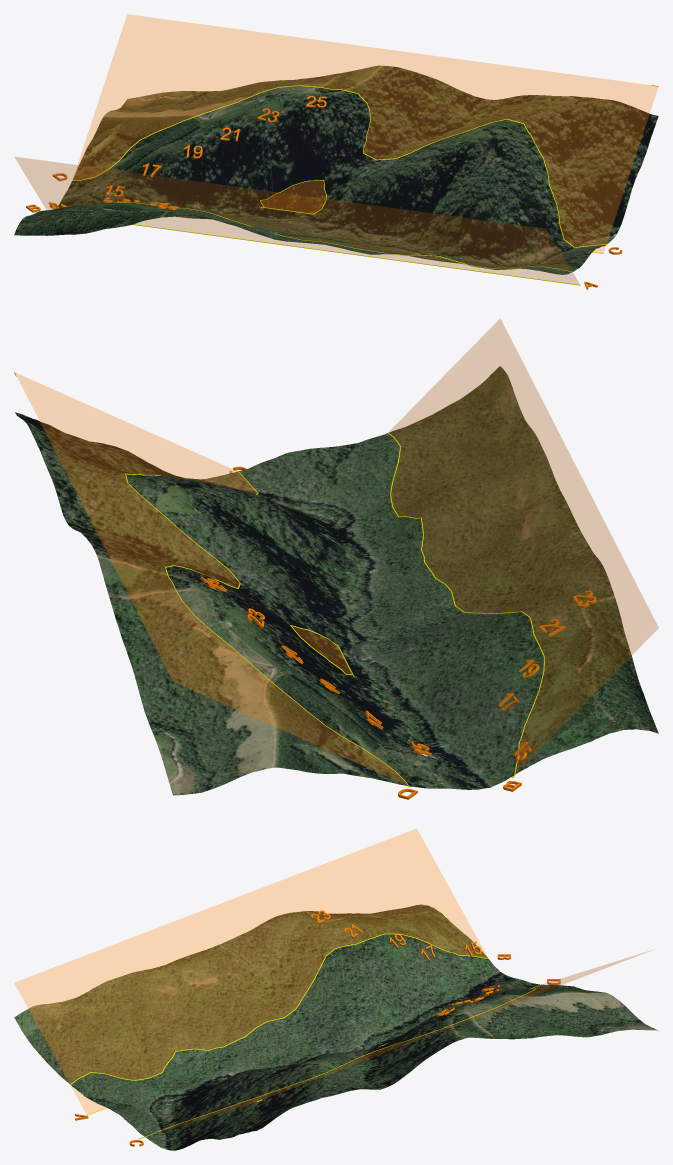
File: curva15Nc1.glb
3 renders of one model, top to bottom at view 1: azimuth 30°, elevation 25°; view 2: azimuth 150°, elevation 25°; view 3: azimuth 270°, elevation 25°, orthographic. The views are drawn at different scales.
Visible parts, largest first — view 1: root, object 2, object 3, object 8; view 2: root, object 2, object 3; view 3: root, object 2, object 3.
Boxes of the visible parts, x1,y1,x2,y2 form: root: (14, 65, 658, 274); object 2: (15, 14, 657, 284); object 3: (26, 96, 622, 289); object 8: (132, 224, 580, 285); root: (15, 366, 658, 795); object 2: (16, 319, 658, 785); object 3: (200, 466, 596, 799); root: (14, 904, 658, 1150); object 2: (14, 829, 651, 1134); object 3: (75, 910, 560, 1146).
Size of the model in its own units: 1836 by 337 by 1874.
Materials: 4 (1 with a texture image).
